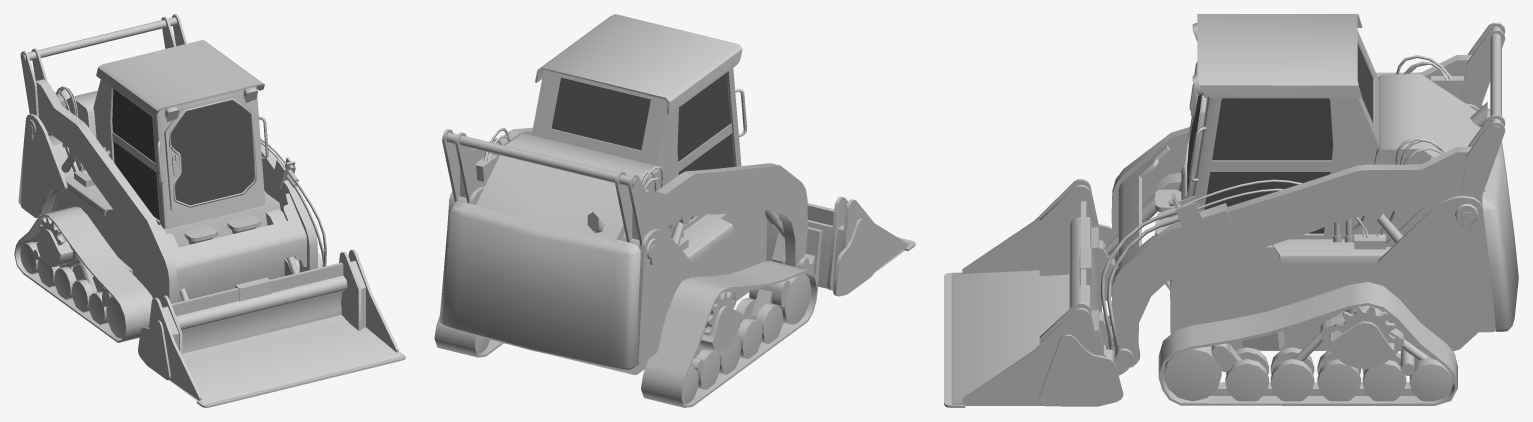
File: Caterpillar_LOD2.FBX
3 views of the same model, side by side, from view 1: azimuth 30°, elevation 25°; view 2: azimuth 150°, elevation 25°; view 3: azimuth 270°, elevation 25° (orthographic). The views are drawn at different scales.
Visible parts, largest first — view 1: Body_LOD2, Windows_LOD2, Track_LOD2; view 2: Body_LOD2, Track_LOD2, Windows_LOD2; view 3: Body_LOD2, Windows_LOD2, Track_LOD2.
Boxes of the visible parts, x1,y1,x2,y2 form: Body_LOD2: (18,14,405,407); Windows_LOD2: (112,89,254,220); Track_LOD2: (14,191,322,342); Body_LOD2: (439,14,915,403); Track_LOD2: (434,261,817,407); Windows_LOD2: (551,73,734,219); Body_LOD2: (944,14,1518,407); Windows_LOD2: (1187,44,1373,233); Track_LOD2: (1158,280,1457,405).
Bounding box in the file's own units: 3.17 × 3.26 × 5.77.
